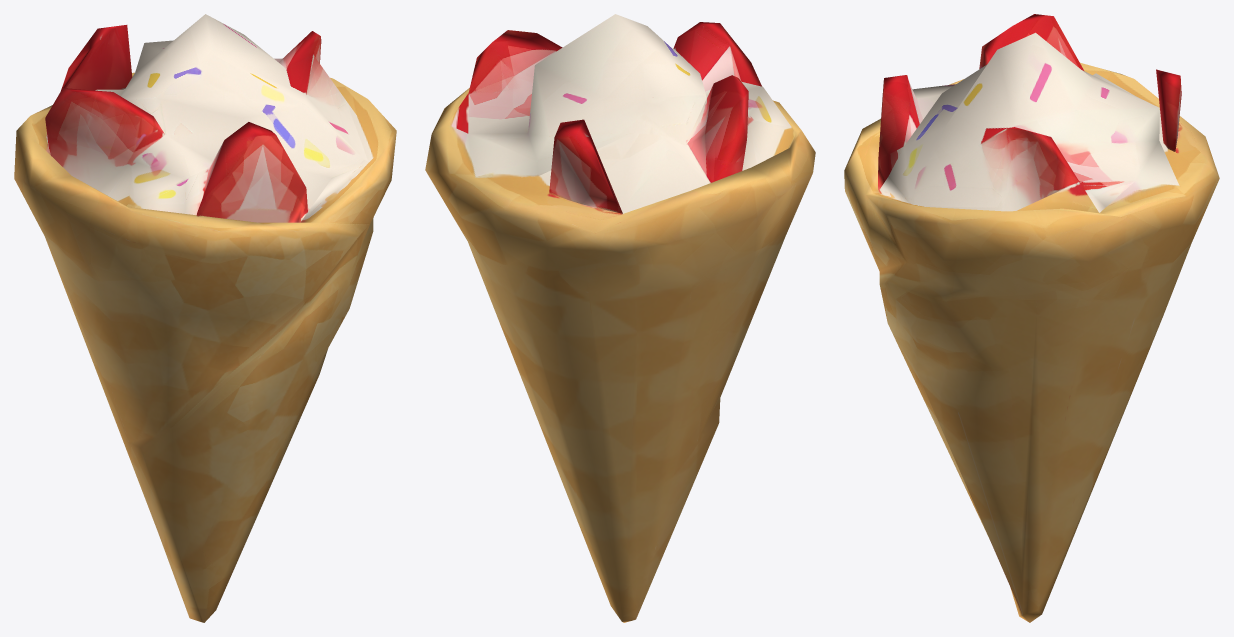
File: source.fbx
3 renders of one model, left to right at view 1: azimuth 30°, elevation 25°; view 2: azimuth 150°, elevation 25°; view 3: azimuth 270°, elevation 25°, orthographic. The views are drawn at different scales.
Visible parts, largest first — view 1: Mesh_0; view 2: Mesh_0; view 3: Mesh_0.
Part boxes in pixels (x1,y1,x2,y2): Mesh_0: (14,14,396,622); Mesh_0: (425,14,815,622); Mesh_0: (844,14,1219,622).
Size of the model in its own units: 10.53 by 18 by 10.33.
Materials: 1 (1 with a texture image).
